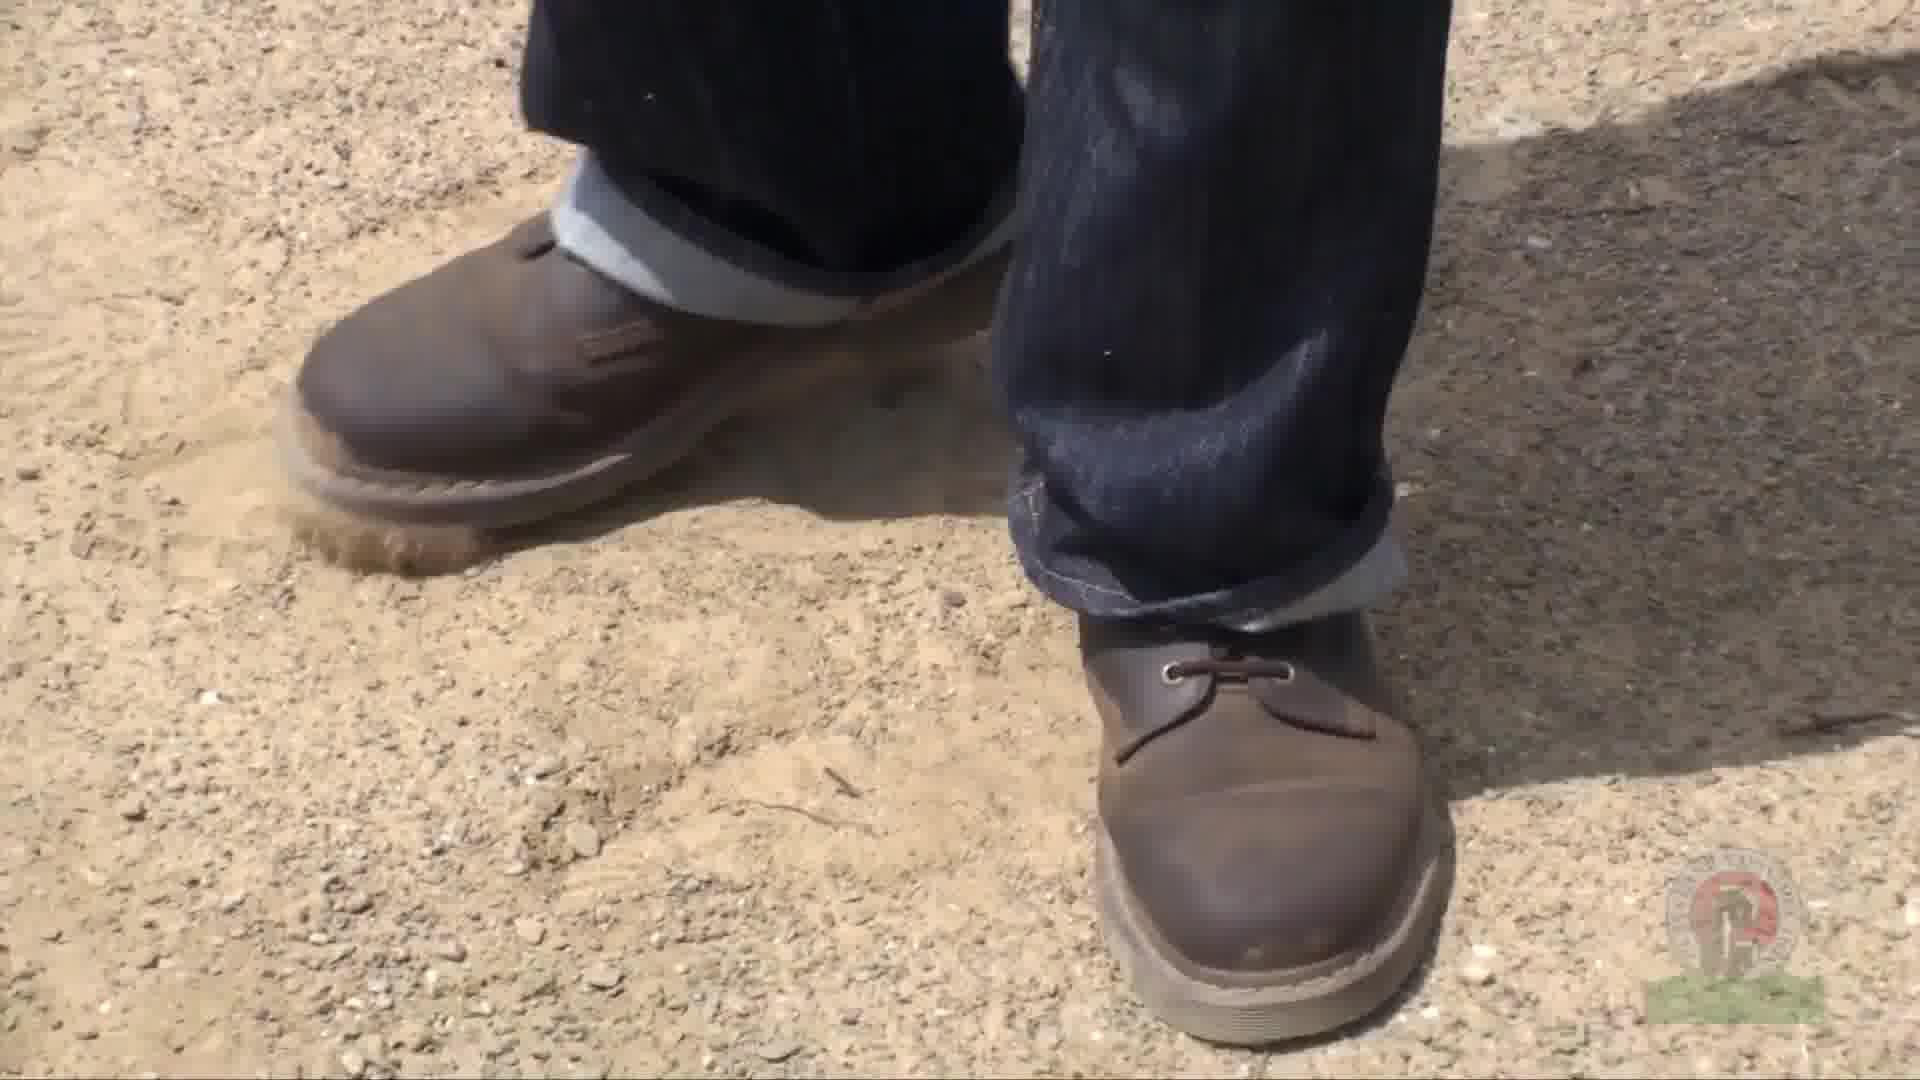safety boot: (261, 84, 1464, 1077)
